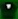black: (0, 0, 18, 19)
